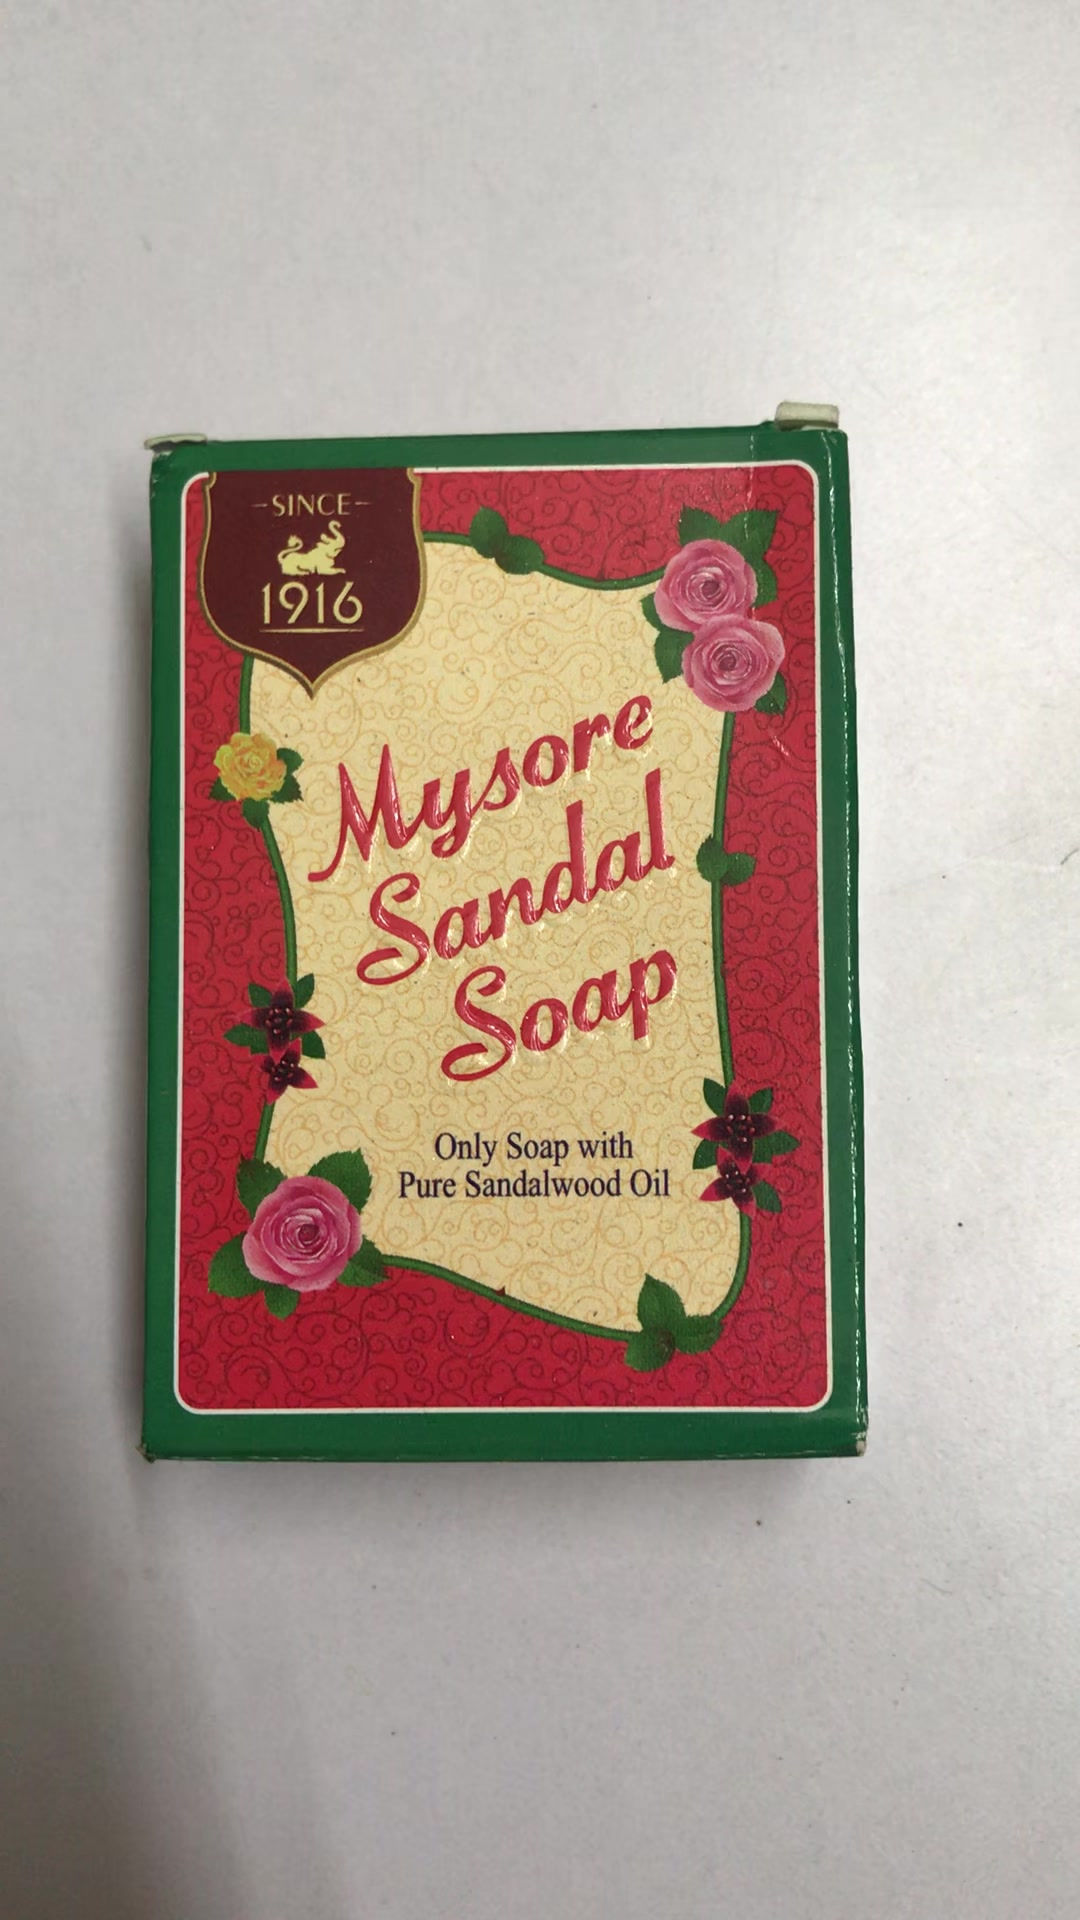mysore sandal soap: (149, 433, 870, 1461)
